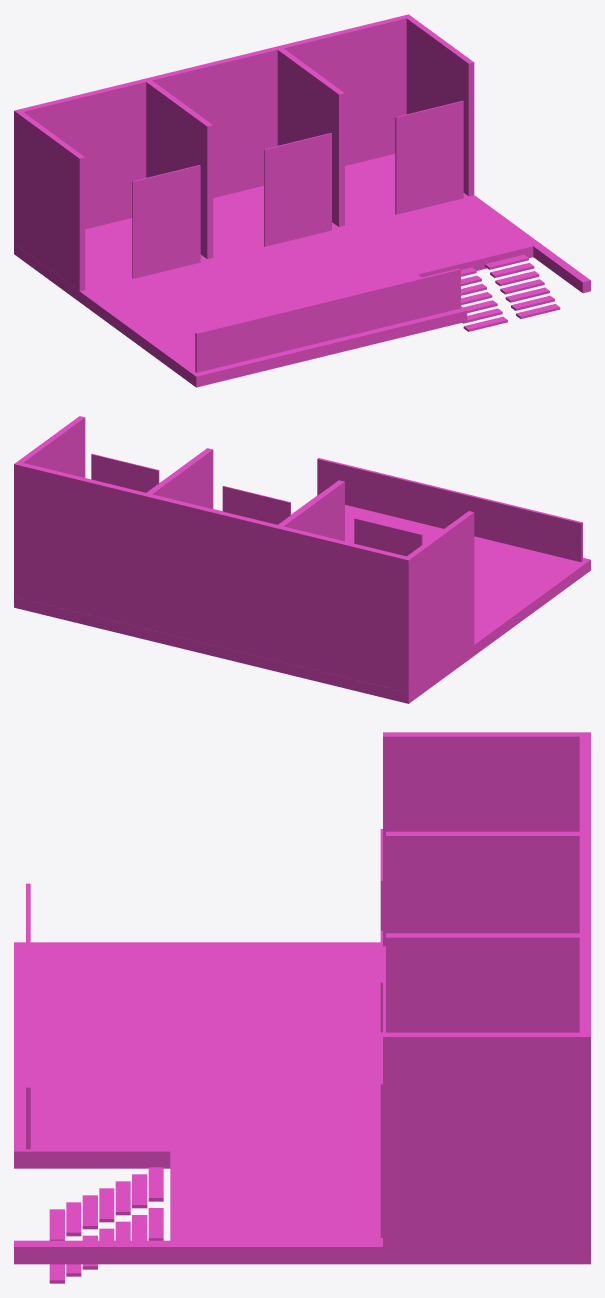
Rendered from ProjectZ_MALL12_ShoppingMallConcourse_Collision.glb.
3 renders of one model, top to bottom at view 1: azimuth 30°, elevation 25°; view 2: azimuth 150°, elevation 25°; view 3: azimuth 270°, elevation 25°, orthographic. The views are drawn at different scales.
Parts seen in each view (by area): view 1: UCX_MALL12_Wall_Rear, UCX_MALL12_Floor_Main, UCX_MALL12_AtriumRailing_01, UCX_MALL12_Floor_RetailFloor, UCX_MALL12_Wall_SideWest, UCX_MALL12_Floor_EscalatorRear, UCX_MALL12_FixedShopFrontGlass_03, UCX_MALL12_FixedShopFrontGlass_01, UCX_MALL12_FixedShopFrontGlass_02, UCX_MALL12_Wall_Divider1, UCX_MALL12_Wall_Divider2, UCX_MALL12_Wall_SideEast (+1 smaller); view 2: UCX_MALL12_Wall_Rear, UCX_MALL12_AtriumRailing_01, UCX_MALL12_Floor_Main, UCX_MALL12_Wall_SideWest, UCX_MALL12_Floor_RetailFloor, UCX_MALL12_Wall_SideEast, UCX_MALL12_Wall_Divider2, UCX_MALL12_Wall_Divider1, UCX_MALL12_FixedShopFrontGlass_02, UCX_MALL12_FixedShopFrontGlass_03, UCX_MALL12_FixedShopFrontGlass_01; view 3: UCX_MALL12_Floor_Main, UCX_MALL12_Wall_SideEast, UCX_MALL12_Wall_SideWest, UCX_MALL12_Wall_Divider1, UCX_MALL12_Wall_Divider2, UCX_MALL12_Floor_EscalatorRear, UCX_MALL12_Floor_EscalatorEastReturn, UCX_MALL12_Wall_Rear, UCX_MALL12_Floor_RetailFloor, UCX_MALL12_AtriumRailing_01.
Part boxes in pixels (x1=…): UCX_MALL12_Wall_Rear: x1=14, y1=14, x2=411, y2=245; UCX_MALL12_Floor_Main: x1=80, y1=226, x2=467, y2=387; UCX_MALL12_AtriumRailing_01: x1=195, y1=268, x2=460, y2=372; UCX_MALL12_Floor_RetailFloor: x1=14, y1=154, x2=474, y2=302; UCX_MALL12_Wall_SideWest: x1=16, y1=110, x2=85, y2=291; UCX_MALL12_Floor_EscalatorRear: x1=352, y1=197, x2=533, y2=277; UCX_MALL12_FixedShopFrontGlass_03: x1=395, y1=100, x2=463, y2=214; UCX_MALL12_FixedShopFrontGlass_01: x1=132, y1=165, x2=200, y2=278; UCX_MALL12_FixedShopFrontGlass_02: x1=264, y1=133, x2=331, y2=246; UCX_MALL12_Wall_Divider1: x1=146, y1=79, x2=213, y2=258; UCX_MALL12_Wall_Divider2: x1=277, y1=47, x2=344, y2=226; UCX_MALL12_Wall_SideEast: x1=406, y1=16, x2=474, y2=196; UCX_MALL12_Wall_Rear: x1=14, y1=461, x2=412, y2=692; UCX_MALL12_AtriumRailing_01: x1=317, y1=458, x2=582, y2=562; UCX_MALL12_Floor_Main: x1=291, y1=496, x2=590, y2=654; UCX_MALL12_Wall_SideWest: x1=406, y1=511, x2=474, y2=689; UCX_MALL12_Floor_RetailFloor: x1=14, y1=597, x2=474, y2=703; UCX_MALL12_Wall_SideEast: x1=17, y1=416, x2=85, y2=477; UCX_MALL12_Wall_Divider2: x1=145, y1=448, x2=213, y2=508; UCX_MALL12_Wall_Divider1: x1=277, y1=480, x2=344, y2=541; UCX_MALL12_FixedShopFrontGlass_02: x1=222, y1=486, x2=290, y2=524; UCX_MALL12_FixedShopFrontGlass_03: x1=91, y1=454, x2=159, y2=492; UCX_MALL12_FixedShopFrontGlass_01: x1=354, y1=518, x2=422, y2=556; UCX_MALL12_Floor_Main: x1=14, y1=942, x2=380, y2=1168; UCX_MALL12_Wall_SideEast: x1=383, y1=1032, x2=584, y2=1246; UCX_MALL12_Wall_SideWest: x1=383, y1=732, x2=584, y2=946; UCX_MALL12_Wall_Divider1: x1=386, y1=831, x2=585, y2=933; UCX_MALL12_Wall_Divider2: x1=386, y1=933, x2=585, y2=1032; UCX_MALL12_Floor_EscalatorRear: x1=170, y1=1151, x2=380, y2=1240; UCX_MALL12_Floor_EscalatorEastReturn: x1=14, y1=1240, x2=380, y2=1264; UCX_MALL12_Wall_Rear: x1=579, y1=732, x2=590, y2=1246; UCX_MALL12_Floor_RetailFloor: x1=380, y1=946, x2=590, y2=1264; UCX_MALL12_AtriumRailing_01: x1=26, y1=883, x2=30, y2=1149.
Bounding box in the file's own units: 12 × 4.8 × 9.6.
